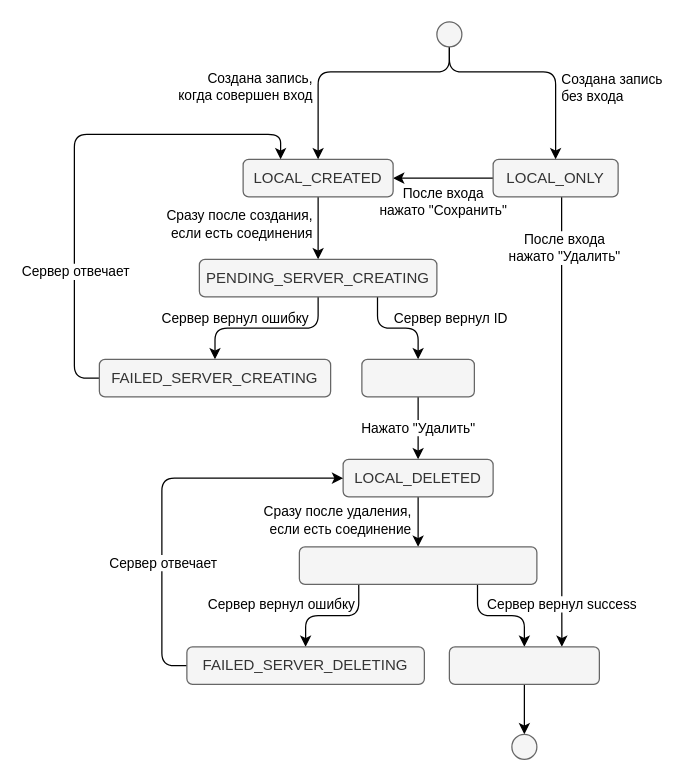
The diagram is 685 pixels wide and 781 high, and some of its shapes have lost their labels. The shapes that lost their labels are listed below. From the top down, each one's box as (x1, y1, x2, y2) in pixels, then its label:
(361, 358, 474, 397): BACKED_UP
(298, 546, 537, 584): PENDING_SERVER_DELETING
(448, 646, 599, 684): DELETED
